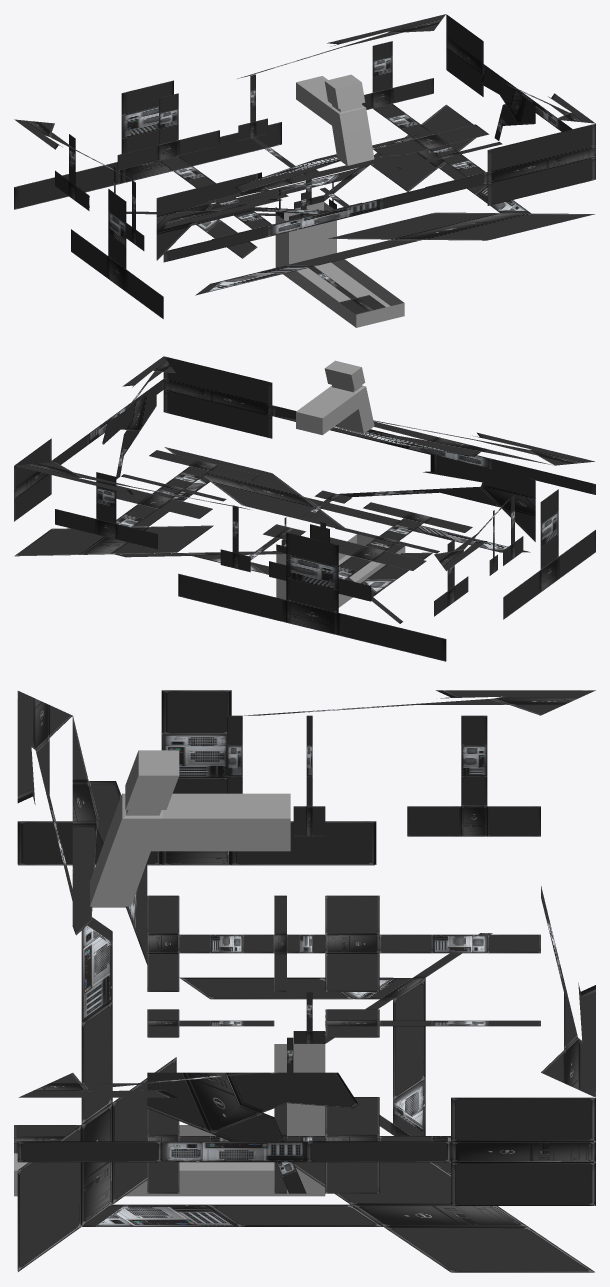
File: lavandino.fbx
3 views of the same model, one above another, from view 1: azimuth 30°, elevation 25°; view 2: azimuth 150°, elevation 25°; view 3: azimuth 270°, elevation 25° (orthographic). The views are drawn at different scales.
Parts seen in each view (by area): view 1: Lavandino; view 2: Lavandino; view 3: Lavandino.
Part boxes in pixels (x1,y1,x2,y2): Lavandino: [14, 14, 595, 327]; Lavandino: [14, 356, 595, 661]; Lavandino: [14, 690, 595, 1272].
Size of the model in its own units: 200 by 94.11 by 121.
